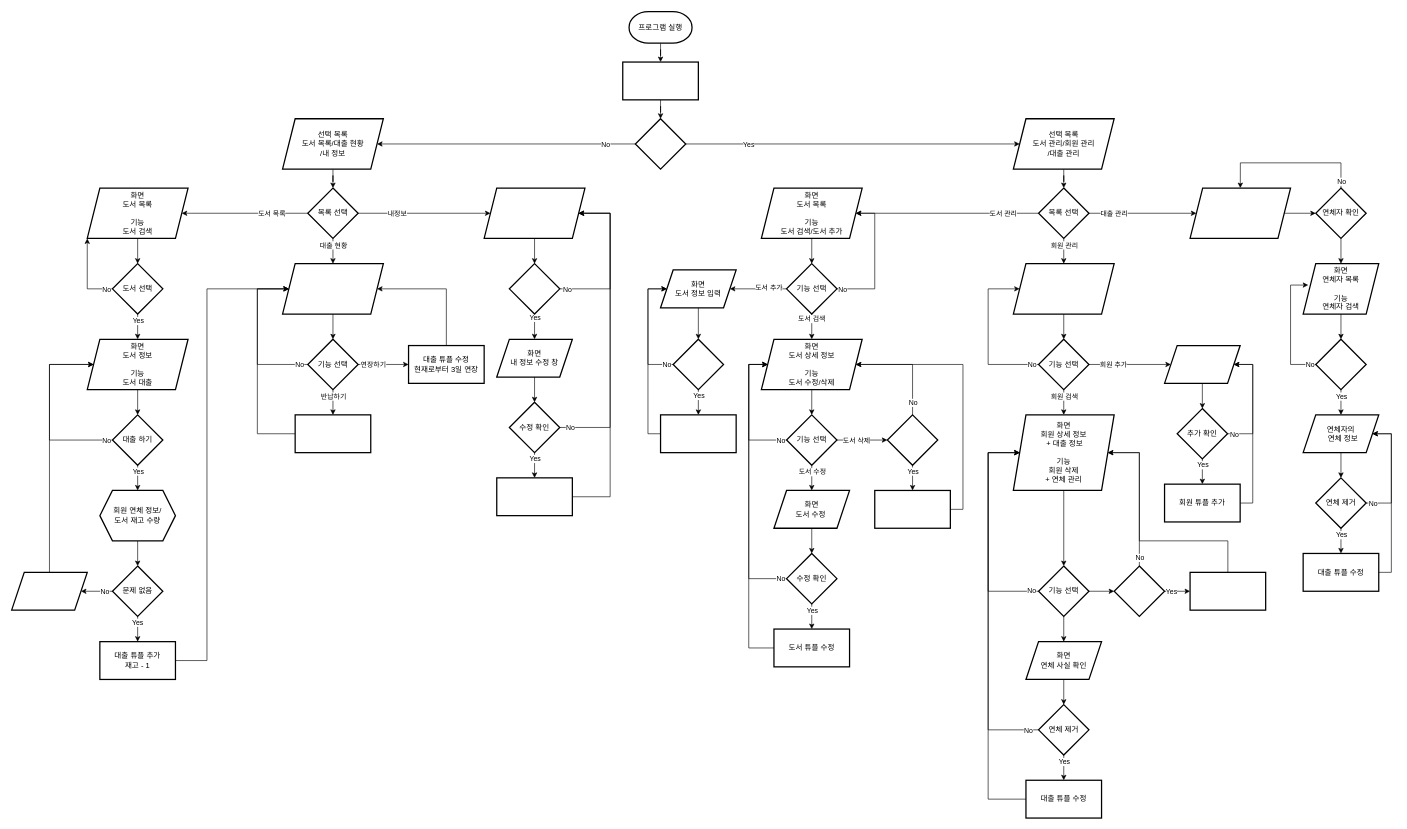
The diagram is 1407 pixels wide and 829 high, and some of its shapes have lost their labels. Here are the shapes that lost their labels. From the top down, the centre of each, then its label:
[660,80]: 아이디/비밀번호 입력
[660,143]: 관리자?
[534,213]: 화면 내 정보들 기능 내 정보 수정
[1240,213]: 화면 대출/반납 목록 기능 연체자 확인
[333,288]: 화면 대출 내역 기능 반납하기/연장하기
[534,288]: 수정하기
[1063,288]: 화면 회원 목록 기능 회원 검색/회원 추가
[698,364]: 도서 정보 입력 및 추가
[1202,364]: 화면 회원 정보 입력
[1340,364]: 연체자 검색
[332,433]: 대출 튜플 수정/ 재고 + 1
[698,433]: 도서 튜플 추가
[912,440]: 삭제 확인
[534,496]: 회원 정보 튜플 수정
[912,509]: 도서 튜플 삭제
[49,590]: 대출 불가능
[1139,591]: 회원 삭제 확인
[1227,590]: 회원 튜플 삭제
